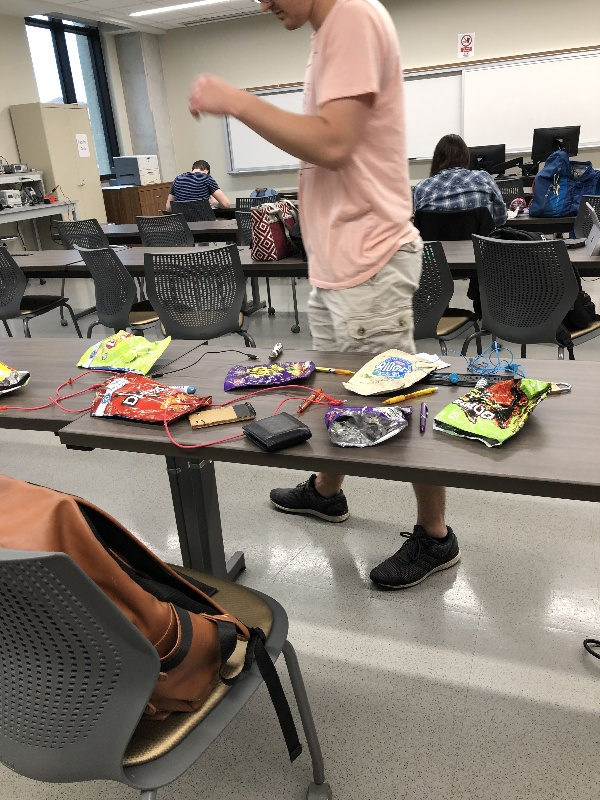bag: (431, 373, 554, 454), (84, 368, 218, 429), (338, 348, 440, 400), (75, 327, 175, 375), (322, 402, 416, 449), (219, 360, 319, 388), (1, 359, 32, 400)
